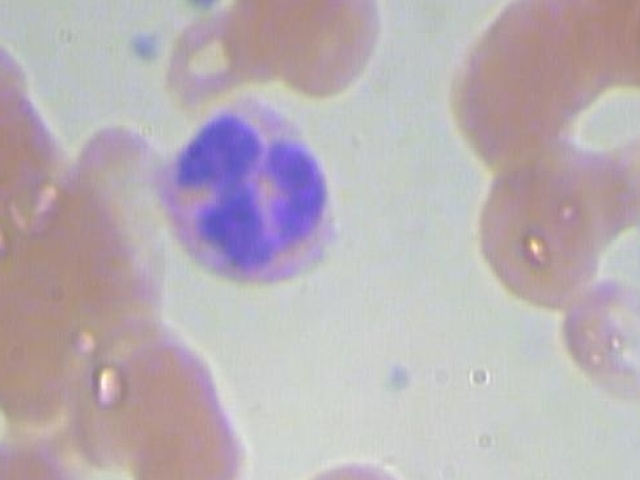Platelets: (116, 17, 173, 75), (173, 0, 232, 21), (633, 211, 640, 291)
RBC: (468, 151, 609, 312), (559, 269, 640, 429), (559, 0, 640, 104), (234, 0, 356, 55), (280, 454, 426, 480)
WBC: (141, 80, 366, 320)
